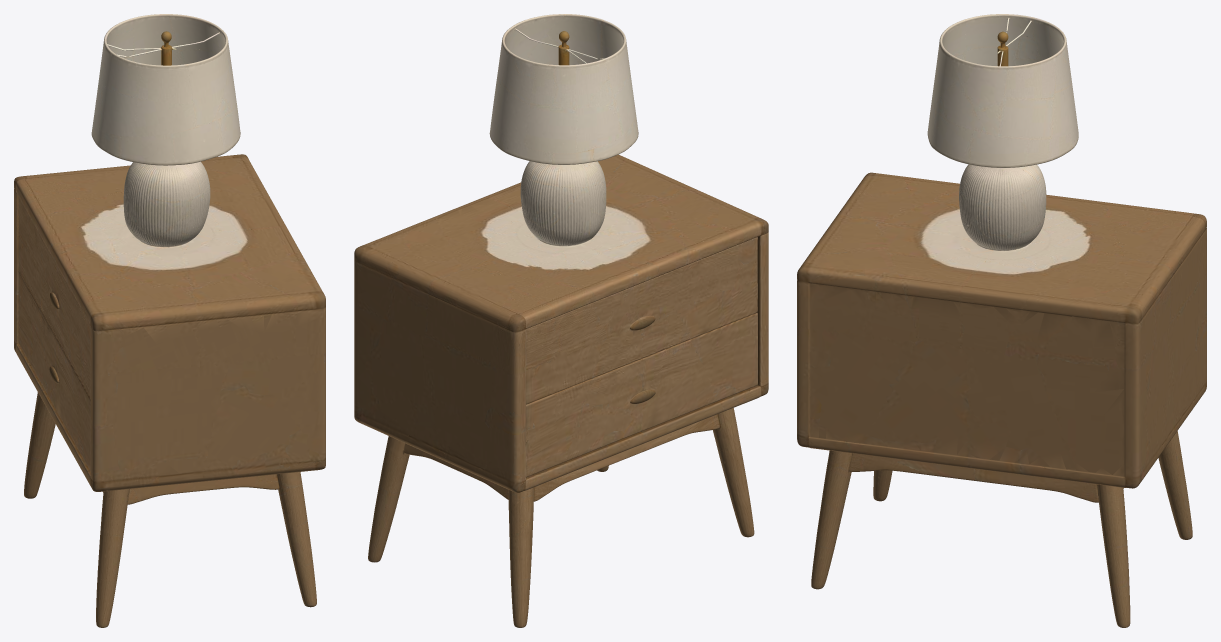
Rendered from room_nightstand_rear.glb.
3 views of the same model, side by side, from view 1: azimuth 30°, elevation 25°; view 2: azimuth 150°, elevation 25°; view 3: azimuth 270°, elevation 25° (orthographic). The views are drawn at different scales.
Parts seen in each view (by area): view 1: mesh_node.005; view 2: mesh_node.005; view 3: mesh_node.005.
Part boxes in pixels (x1=…): mesh_node.005: x1=14, y1=14, x2=325, y2=627; mesh_node.005: x1=354, y1=14, x2=768, y2=627; mesh_node.005: x1=797, y1=14, x2=1206, y2=627.
Size of the model in its own units: 0.5706 by 0.9978 by 0.7007.
1 material, 1 textured.
